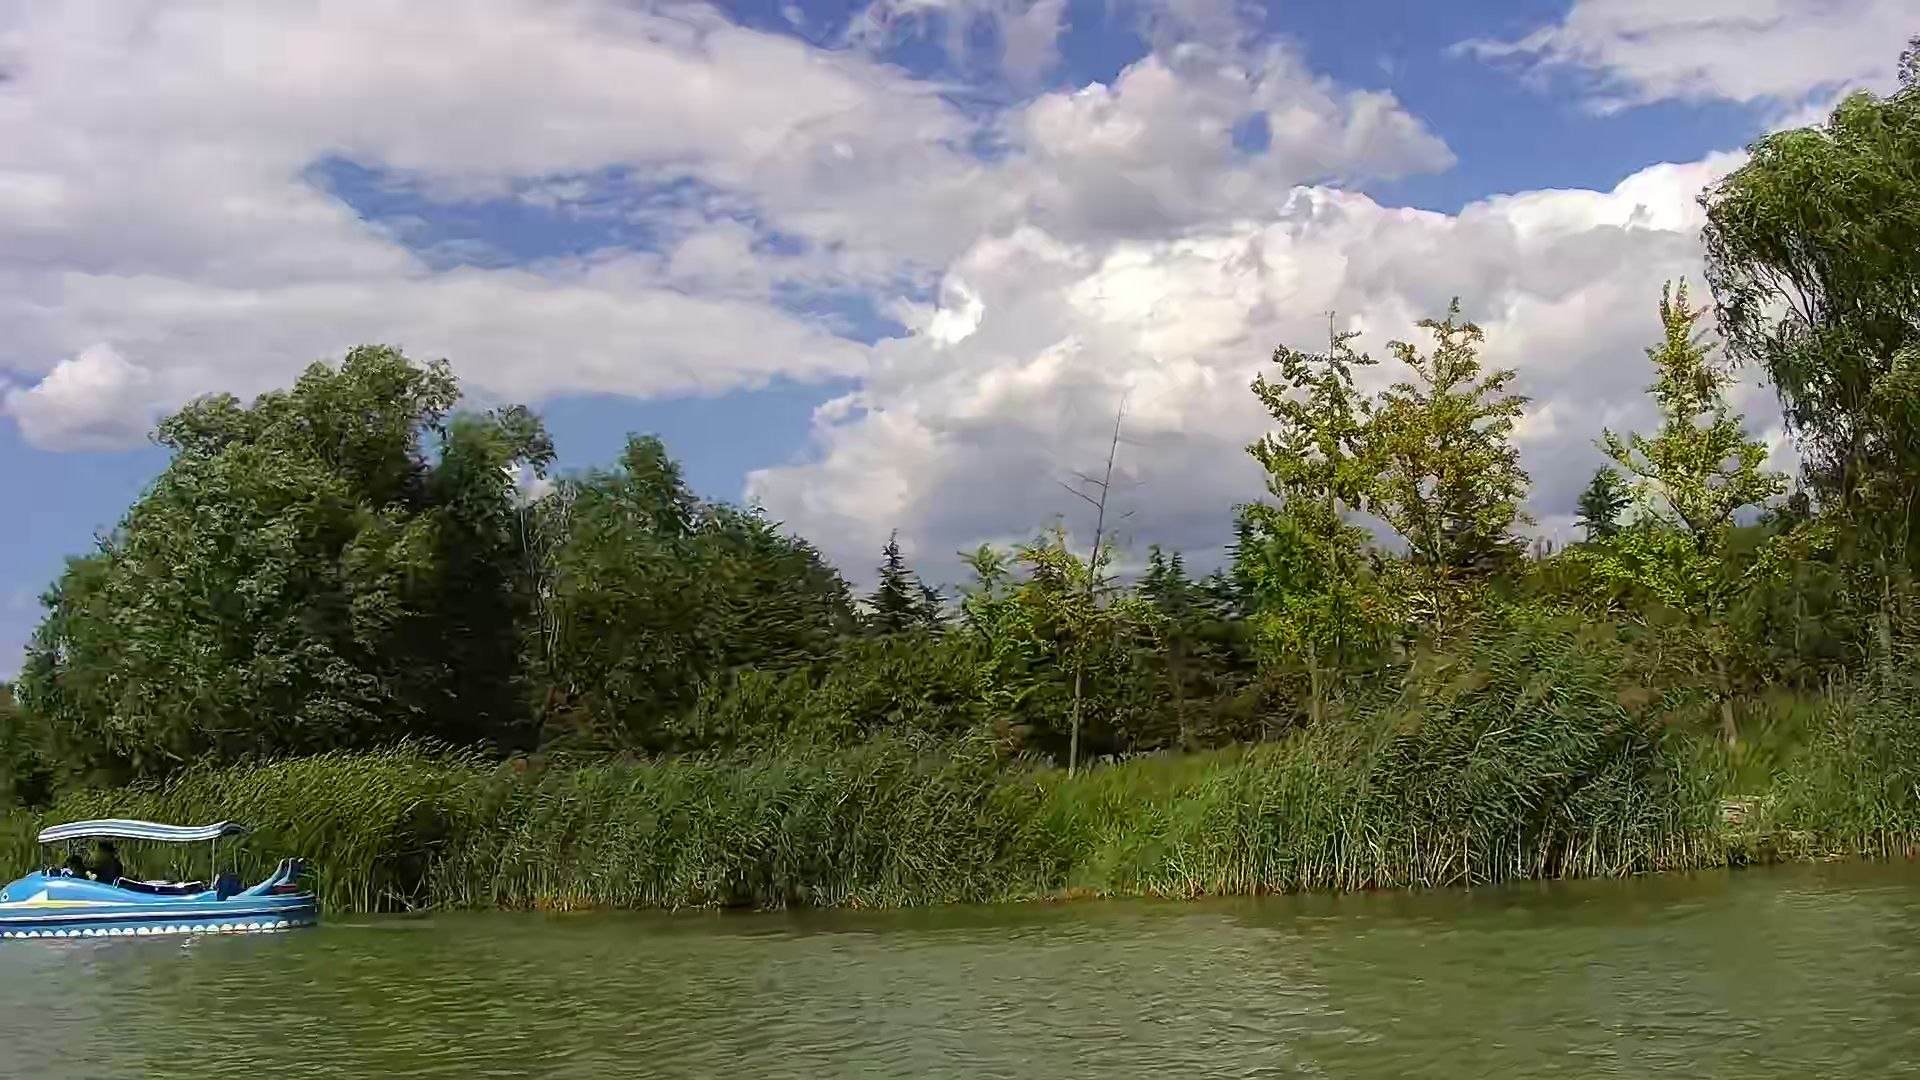boat: (1, 818, 320, 939)
